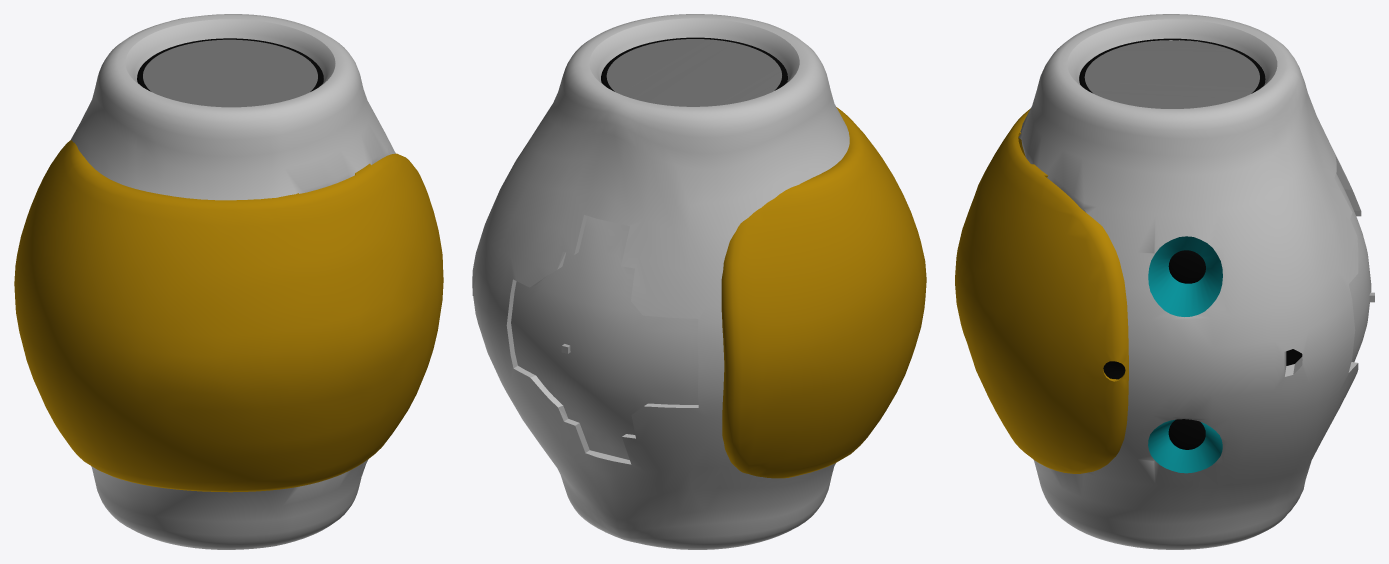
File: HeadPitch.dae
3 renders of one model, left to right at view 1: azimuth 30°, elevation 25°; view 2: azimuth 150°, elevation 25°; view 3: azimuth 270°, elevation 25°, orthographic.
Parts seen in each view (by area): view 1: Head; view 2: Head; view 3: Head.
Boxes of the visible parts, x1=… form: Head: x1=14, y1=14, x2=443, y2=549; Head: x1=472, y1=14, x2=926, y2=549; Head: x1=955, y1=14, x2=1371, y2=549.
Bounding box in the file's own units: 120 × 115 × 133.
